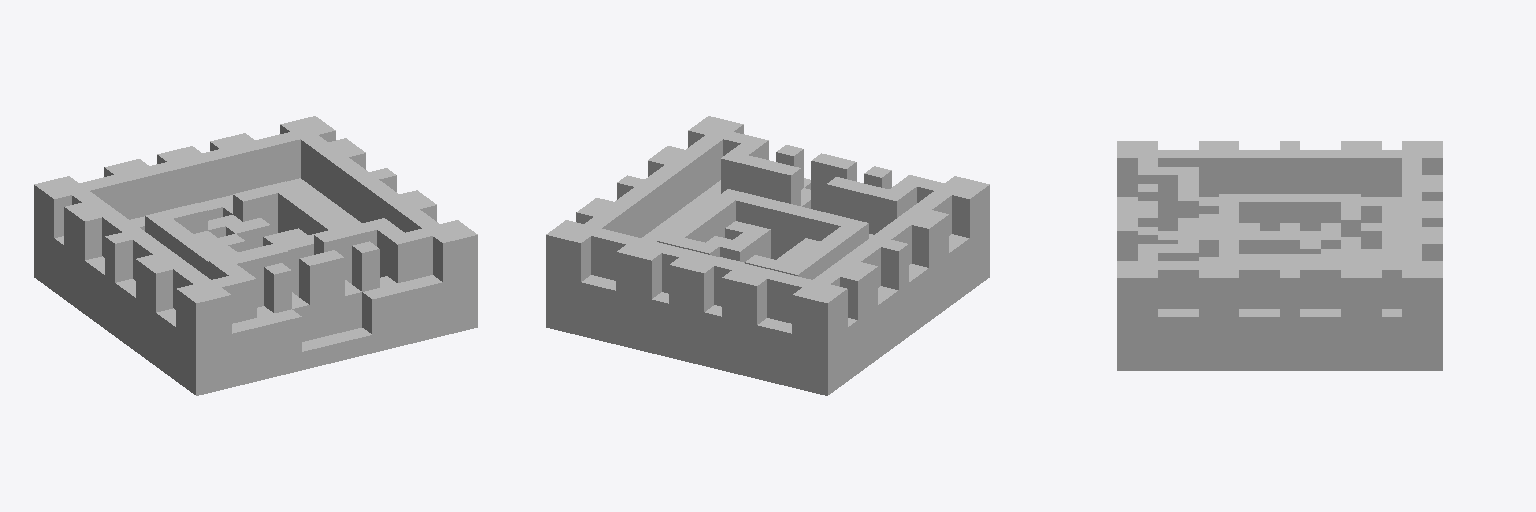
Rendered from obj_memes.obj.
3 views of the same model, side by side, from view 1: azimuth 30°, elevation 25°; view 2: azimuth 150°, elevation 25°; view 3: azimuth 270°, elevation 25° (orthographic).
Parts seen in each view (by area): view 1: PolySphere2_5, PolySphere2_3, PolySphere2_4, PolySphere2; view 2: PolySphere2_5, PolySphere2_3, PolySphere2_4, PolySphere2; view 3: PolySphere2_5, PolySphere2_3, PolySphere2_4, PolySphere2.
Part boxes in pixels (left/top/right/bottom): PolySphere2_5: left=34, top=116, right=477, bottom=395; PolySphere2_3: left=34, top=214, right=477, bottom=376; PolySphere2_4: left=130, top=178, right=396, bottom=341; PolySphere2: left=332, top=292, right=477, bottom=360; PolySphere2_5: left=546, top=116, right=989, bottom=395; PolySphere2_3: left=546, top=178, right=989, bottom=376; PolySphere2_4: left=642, top=180, right=872, bottom=262; PolySphere2: left=546, top=293, right=685, bottom=360; PolySphere2_5: left=1117, top=141, right=1442, bottom=370; PolySphere2_3: left=1117, top=197, right=1442, bottom=352; PolySphere2_4: left=1158, top=197, right=1401, bottom=260; PolySphere2: left=1117, top=335, right=1442, bottom=370.
Size of the model in its own units: 0.4 by 0.1259 by 0.4.